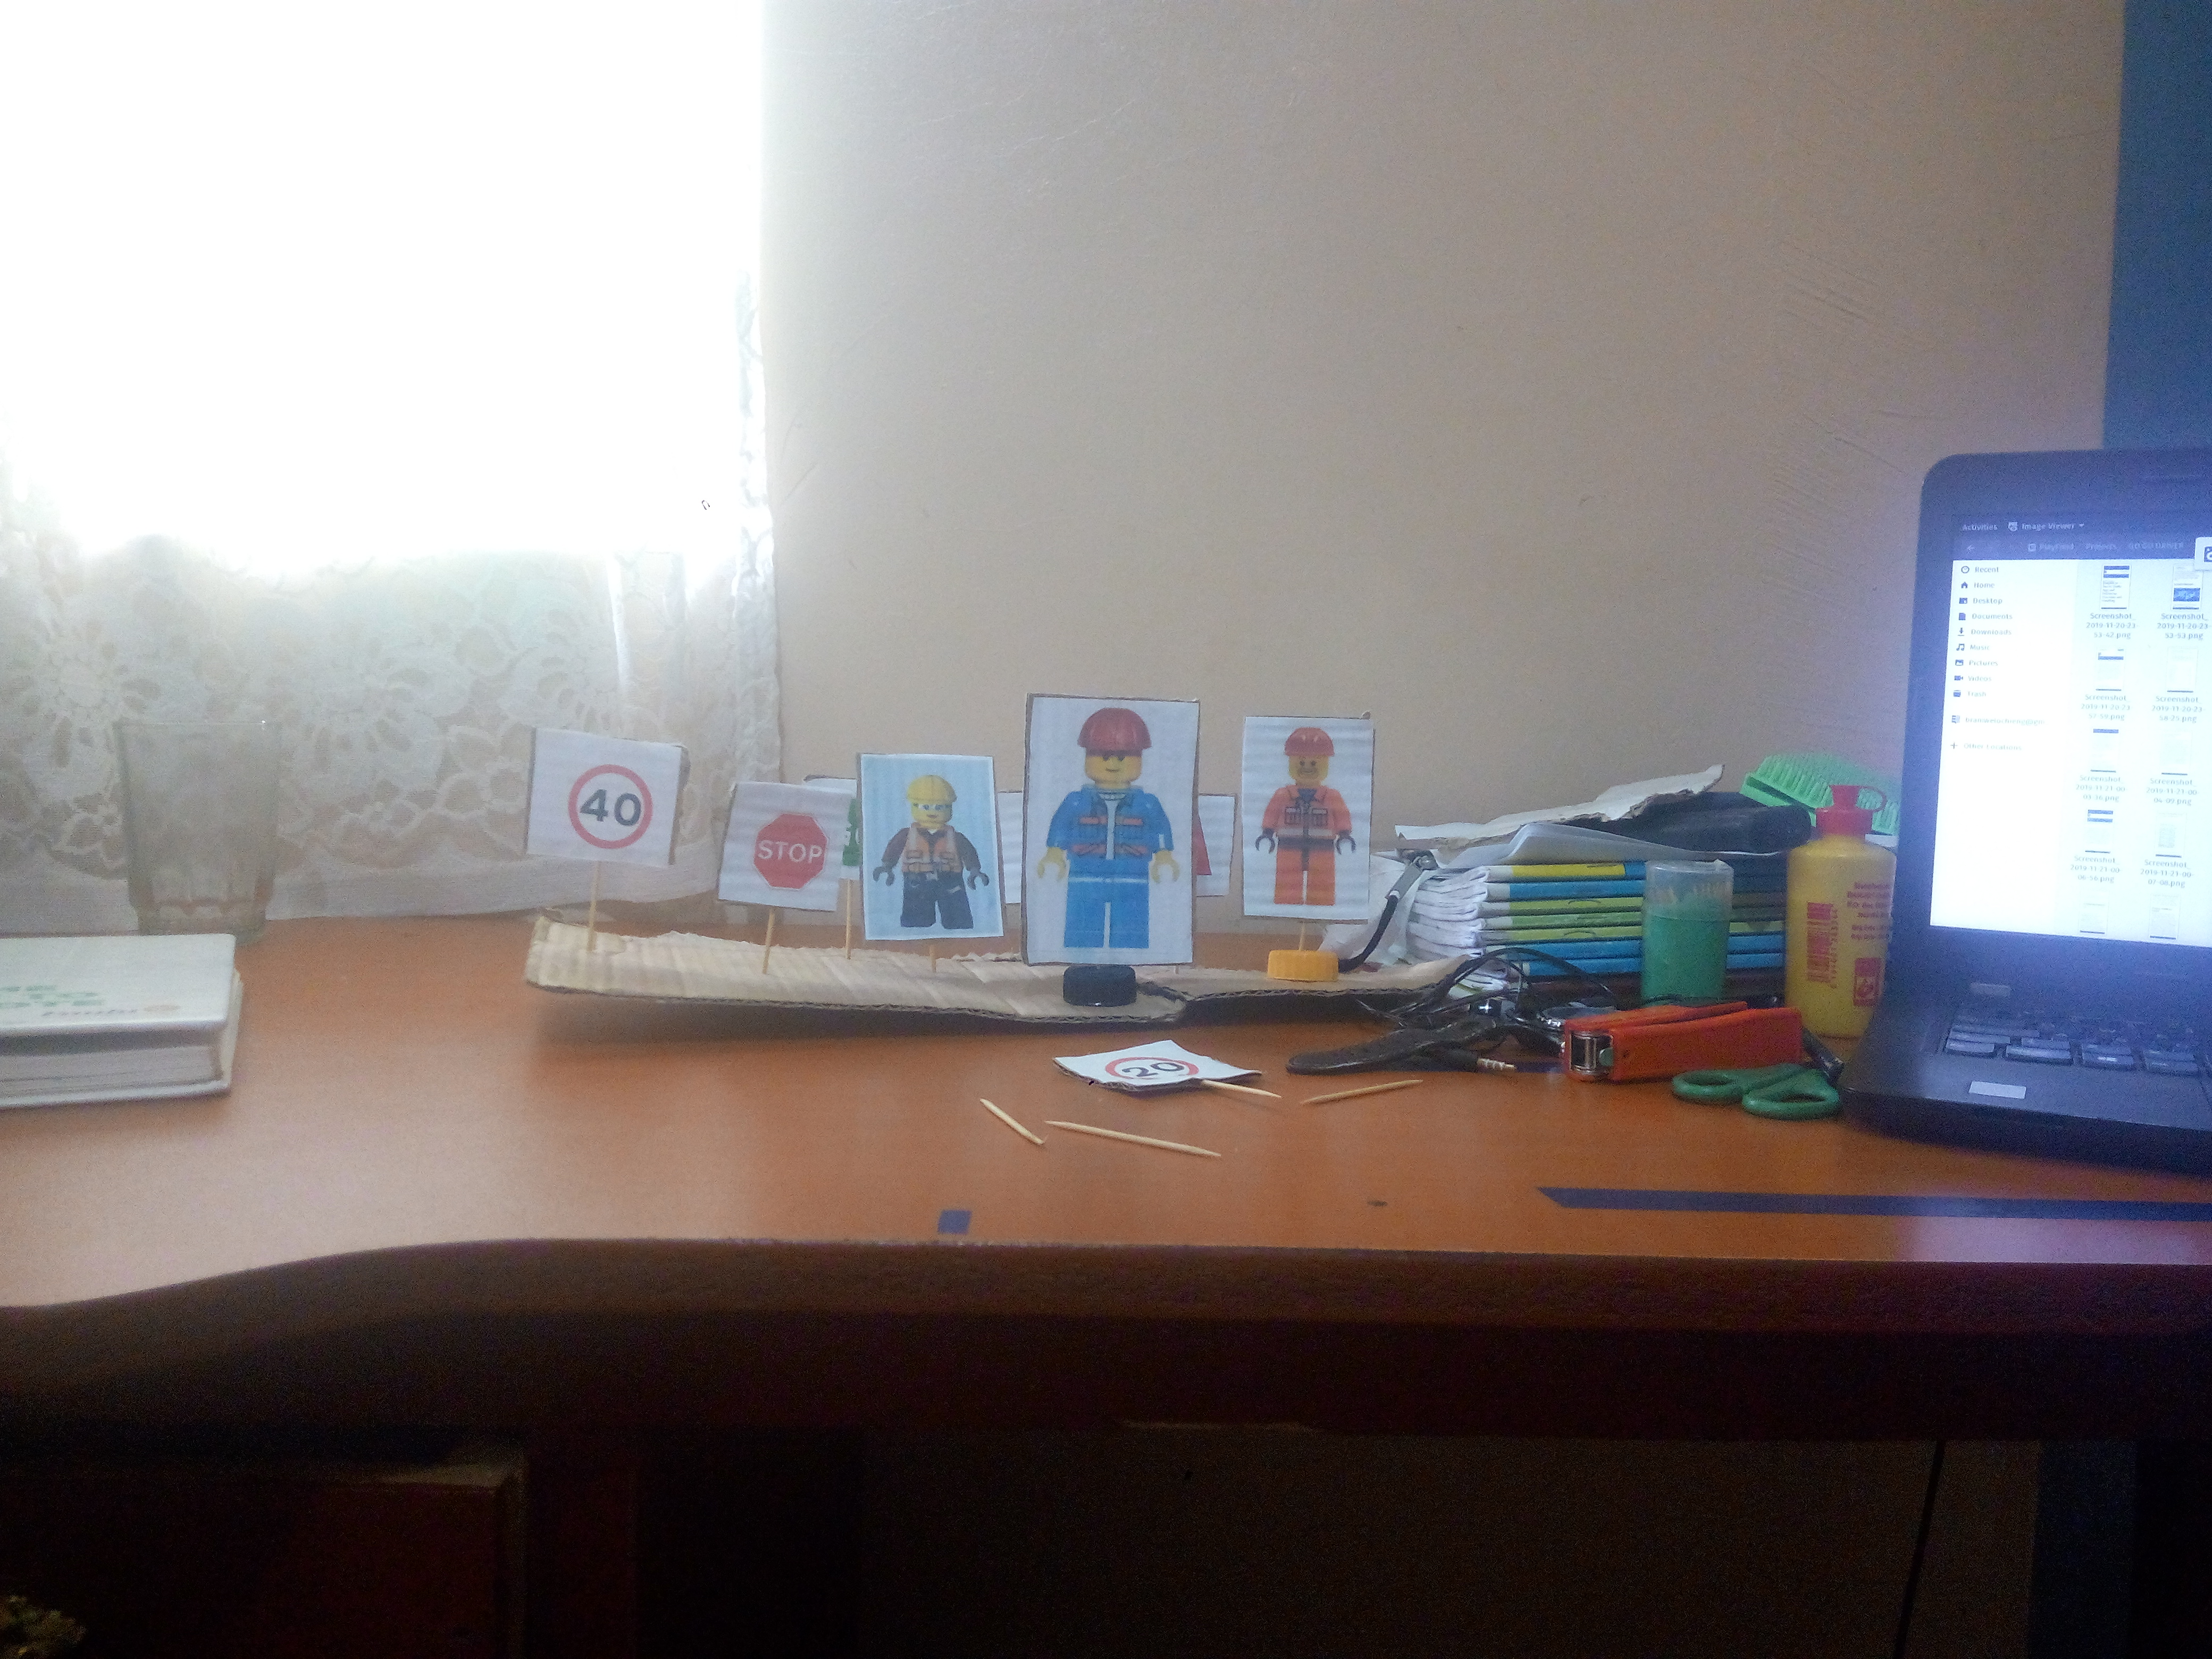40 kph: (554, 745, 680, 852)
pedestrian: (1030, 702, 1192, 953), (1243, 713, 1364, 912), (881, 763, 987, 931)
stop: (749, 801, 829, 902)
